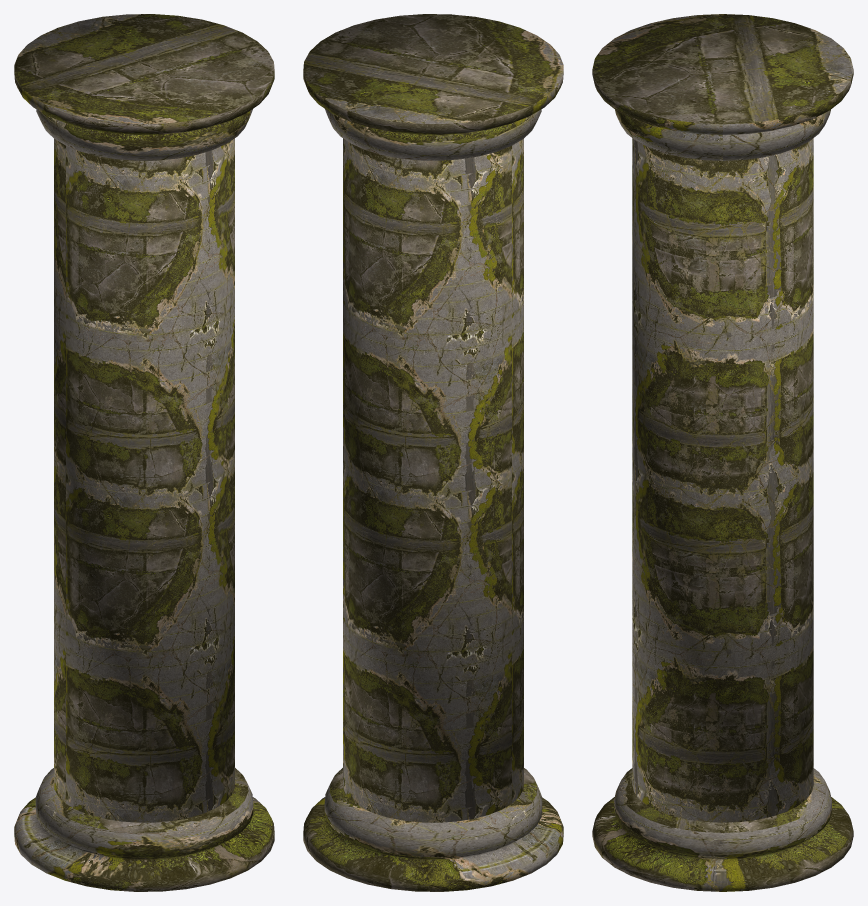
Rendered from NewPillar.fbx.
The picture shows the model from 3 angles, left to right: view 1: azimuth 30°, elevation 25°; view 2: azimuth 150°, elevation 25°; view 3: azimuth 270°, elevation 25°; orthographic projection.
Parts seen in each view (by area): view 1: Cylinder; view 2: Cylinder; view 3: Cylinder.
Boxes of the visible parts, x1,y1,x2,y2 form: Cylinder: (14, 14, 274, 891); Cylinder: (303, 14, 563, 891); Cylinder: (592, 14, 853, 891).
Size of the model in its own units: 122 by 396 by 122.
